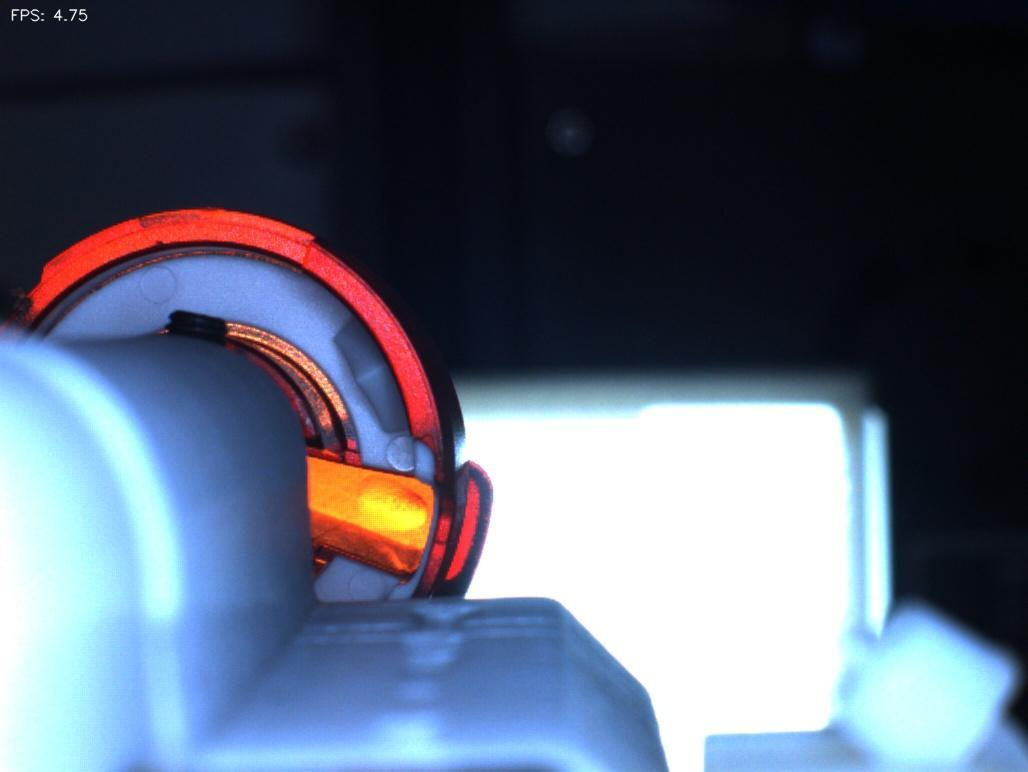Retassure: (338, 466, 436, 542)
